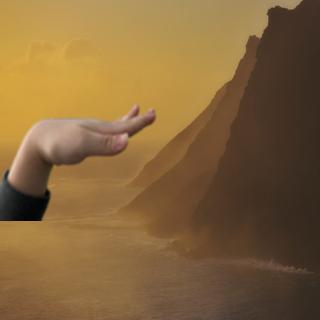Wait: (16, 98, 162, 180)
